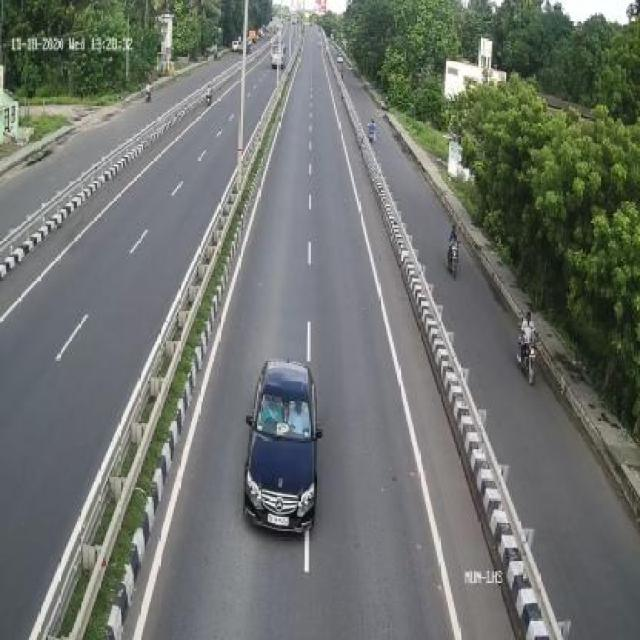car: (242, 356, 320, 530)
